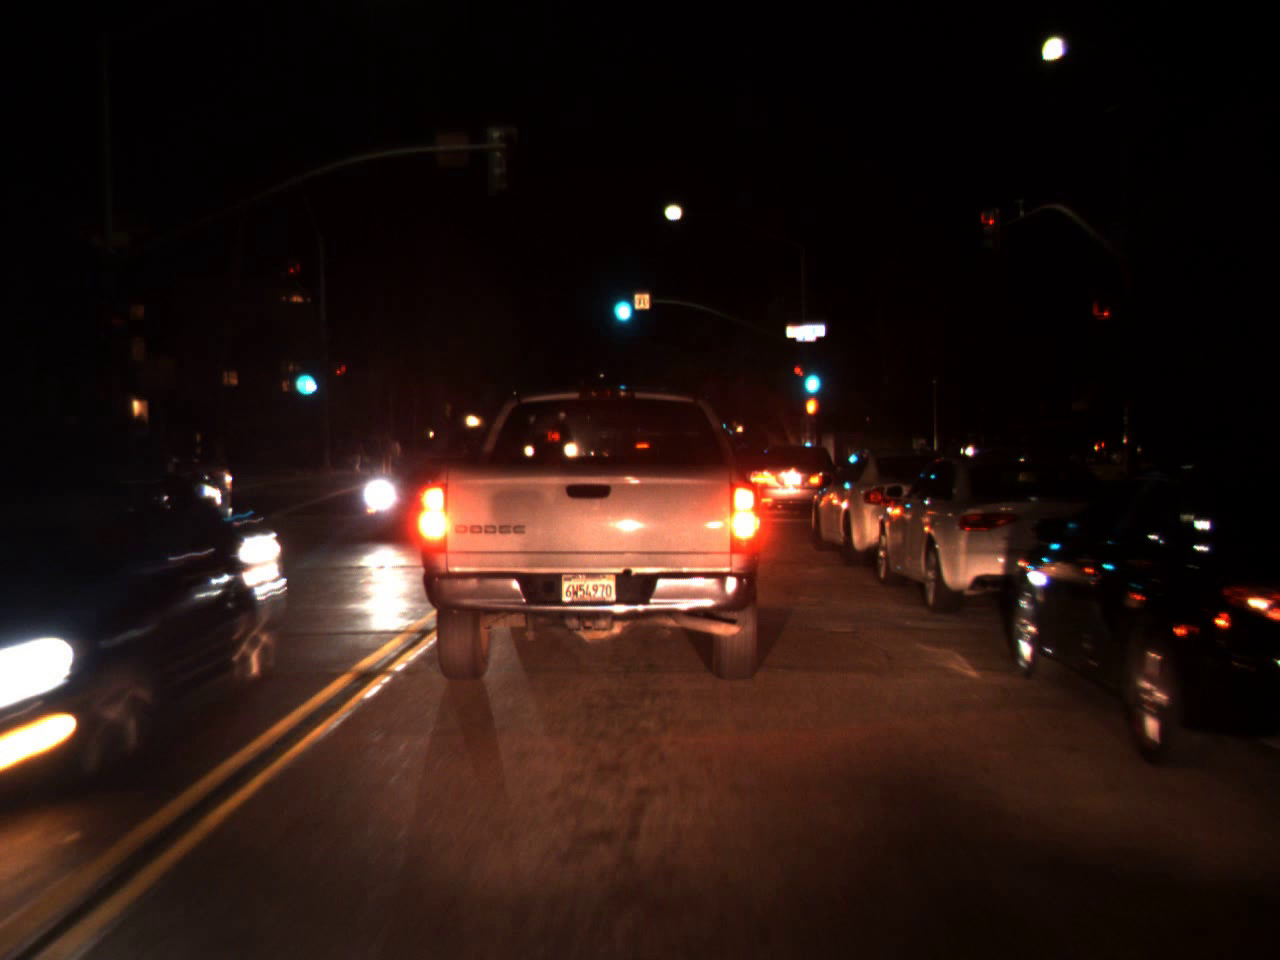go: (288, 349, 321, 403), (607, 275, 634, 329), (799, 352, 824, 400)
